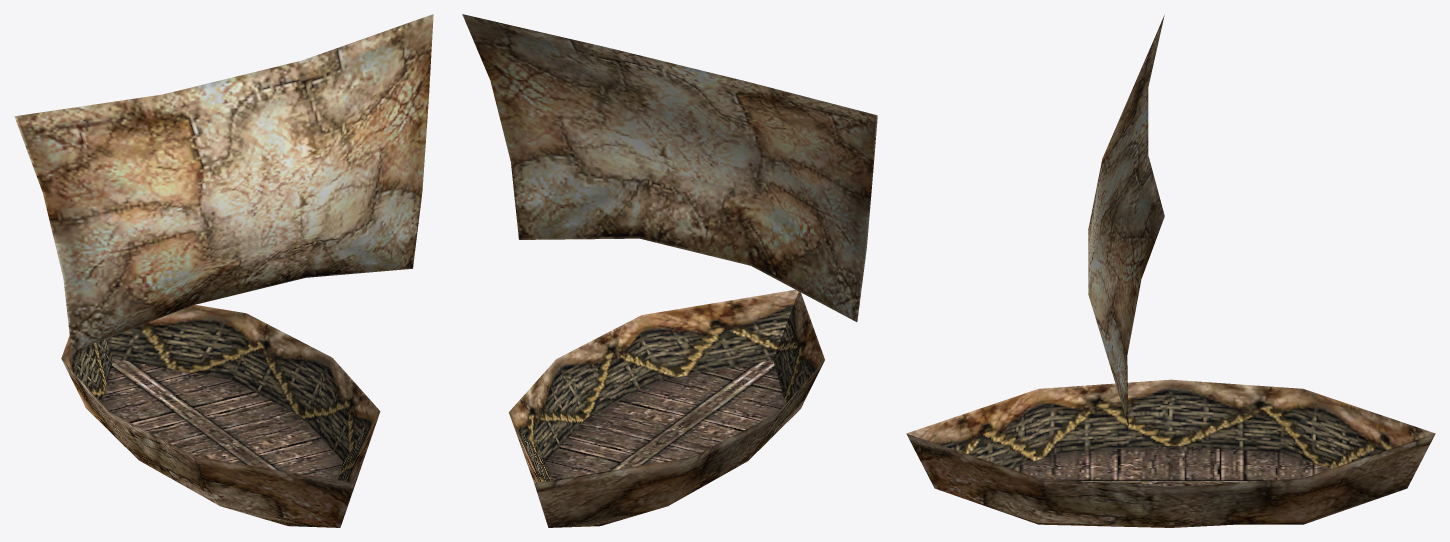
File: celt_boat_fishing_mast.dae
The picture shows the model from 3 angles, left to right: view 1: azimuth 30°, elevation 25°; view 2: azimuth 150°, elevation 25°; view 3: azimuth 270°, elevation 25°; orthographic projection.
Parts seen in each view (by area): view 1: Object09; view 2: Object09; view 3: Object09.
Boxes of the visible parts, left/top/right/bottom form: Object09: left=14, top=14, right=433, bottom=527; Object09: left=462, top=14, right=877, bottom=527; Object09: left=906, top=15, right=1435, bottom=527.
Size of the model in its own units: 10.88 by 12.04 by 10.27.
